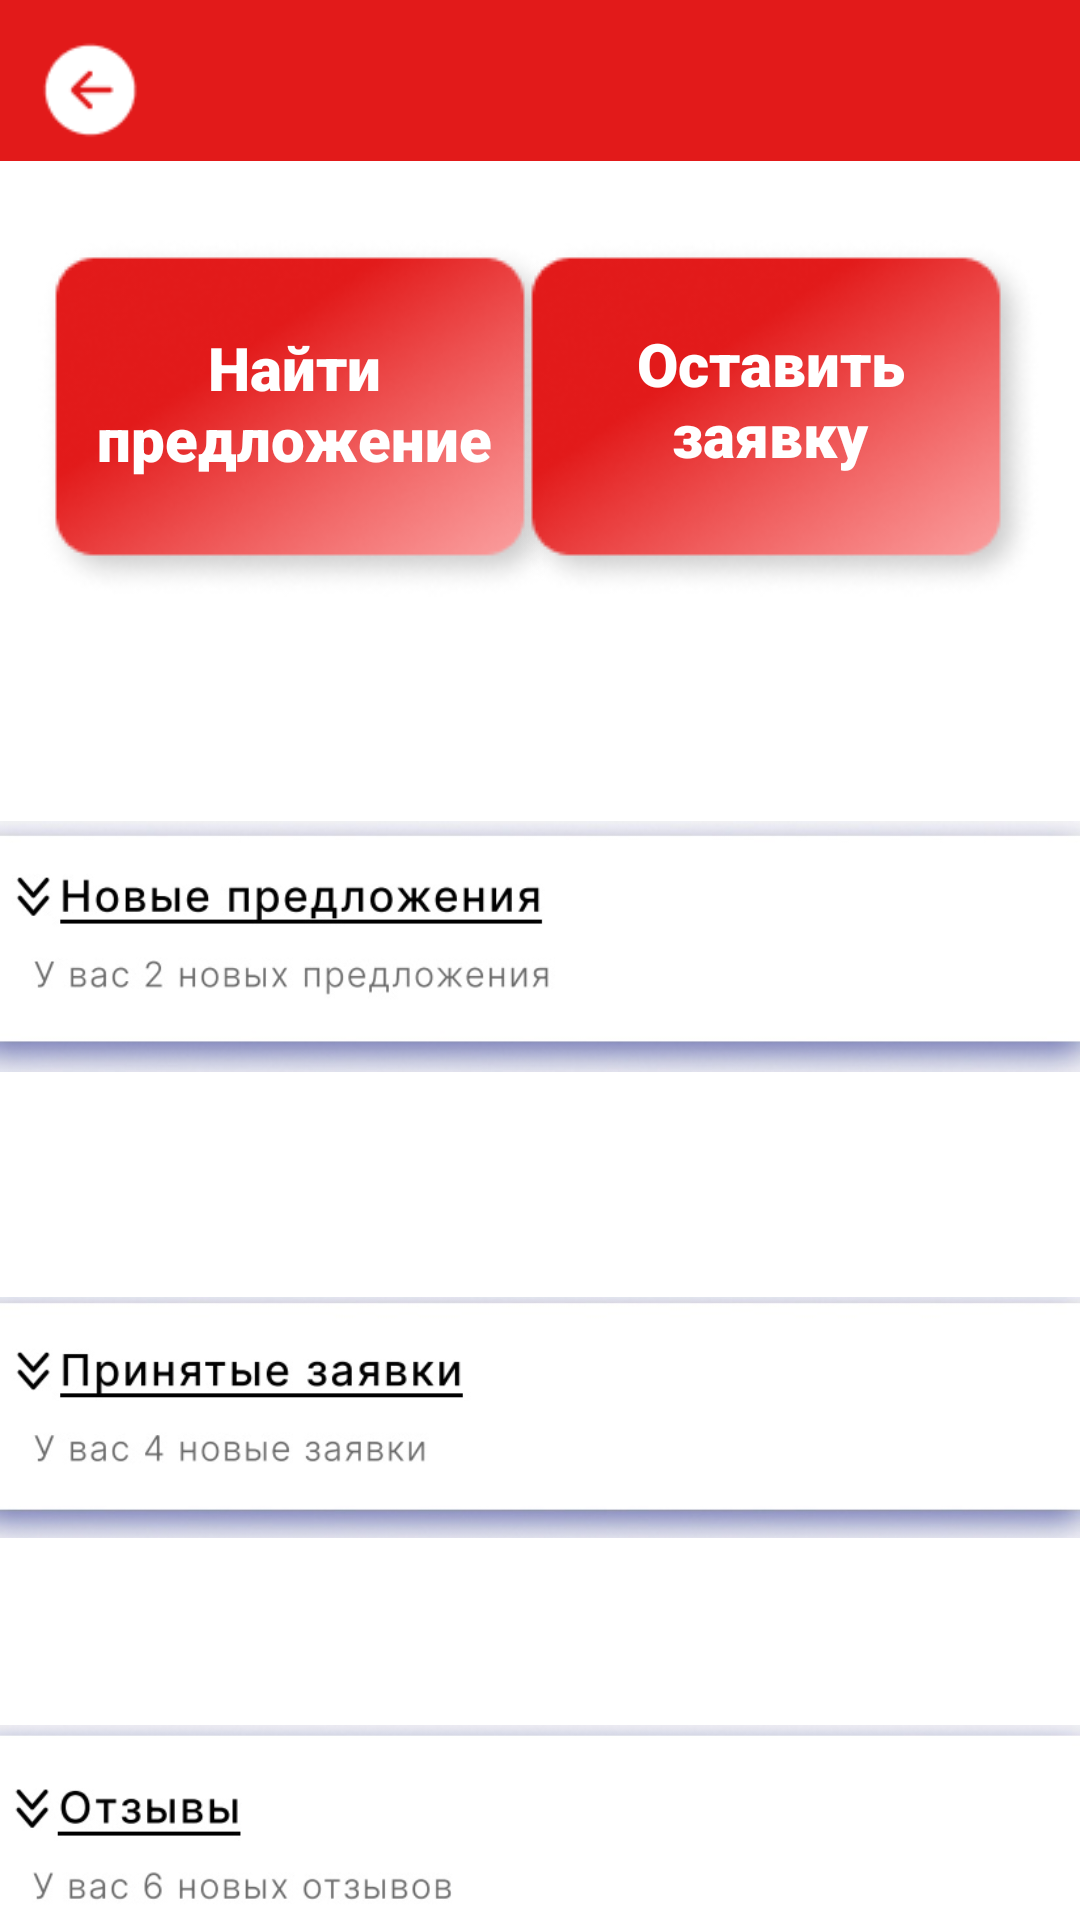

Named icons in this screenshot (1080x1920) and their centers, (x,y):
назад: (90,90)
